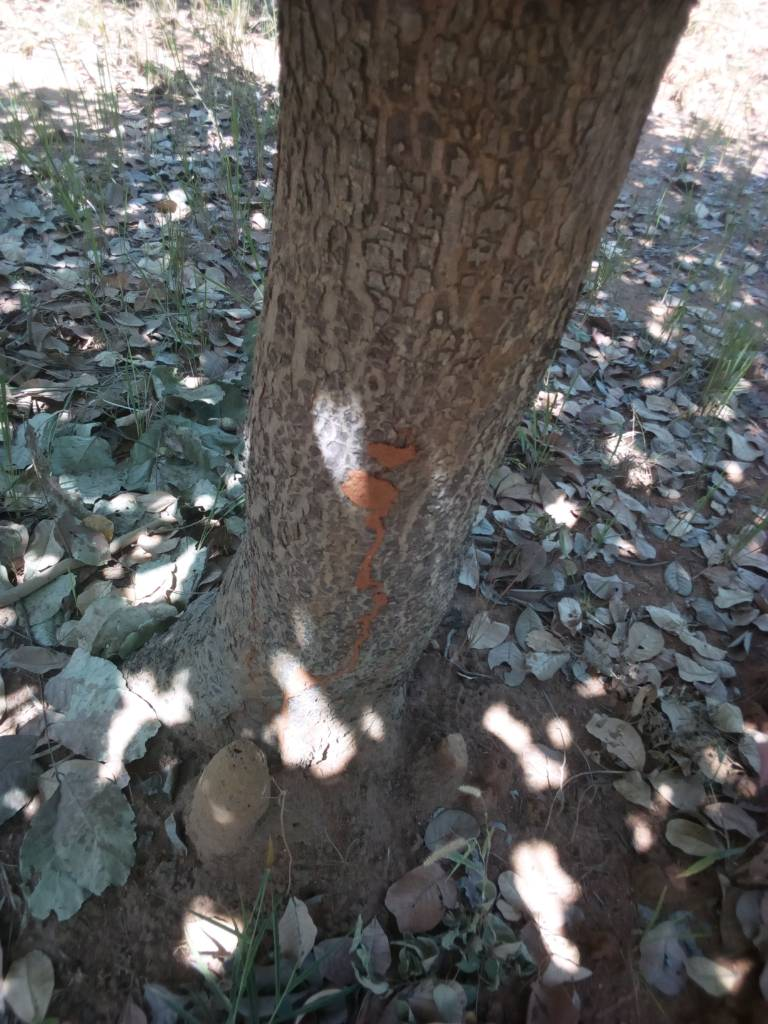Termites: (327, 439, 416, 678)
